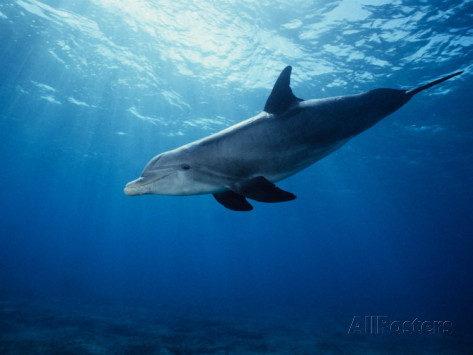dolphin: (126, 54, 469, 217)
